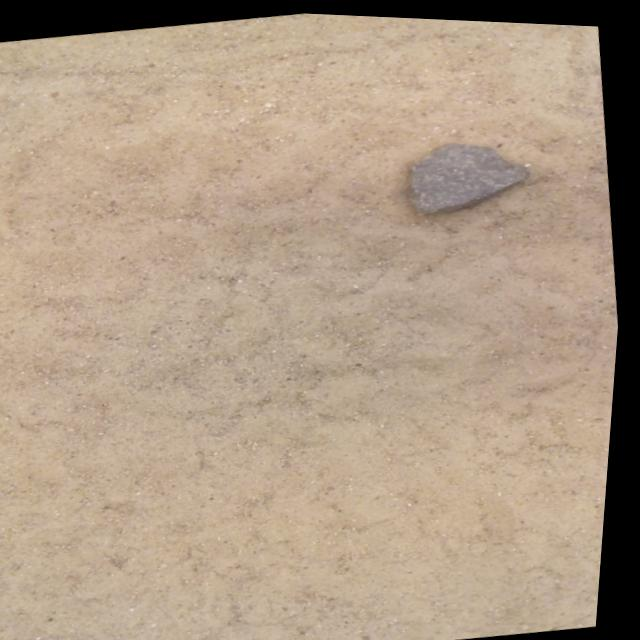rock: (412, 138, 530, 209)
